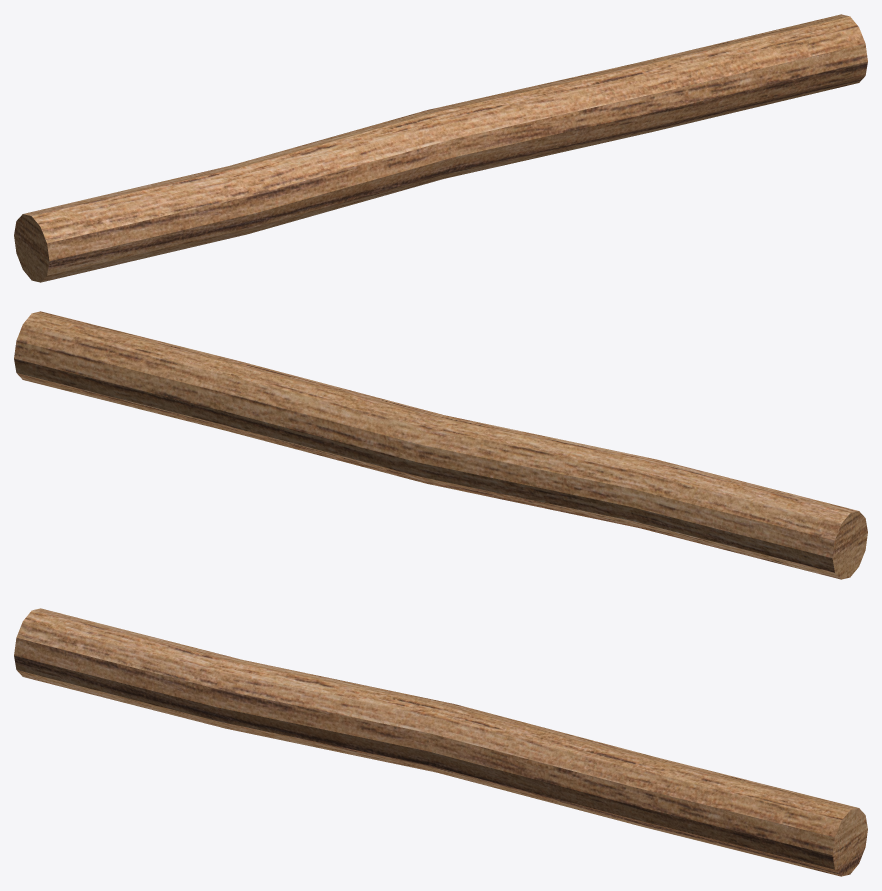
Rendered from wood block.fbx.
The picture shows the model from 3 angles, top to bottom: view 1: azimuth 30°, elevation 25°; view 2: azimuth 150°, elevation 25°; view 3: azimuth 330°, elevation 25°; orthographic projection.
Visible parts, largest first — view 1: pCylinder17; view 2: pCylinder17; view 3: pCylinder17.
Part boxes in pixels (left/top/right/bottom): pCylinder17: left=14, top=14, right=867, bottom=282; pCylinder17: left=14, top=311, right=867, bottom=579; pCylinder17: left=14, top=608, right=867, bottom=876.
Bounding box in the file's own units: 814 × 61.05 × 74.34.
1 material, 1 textured.
